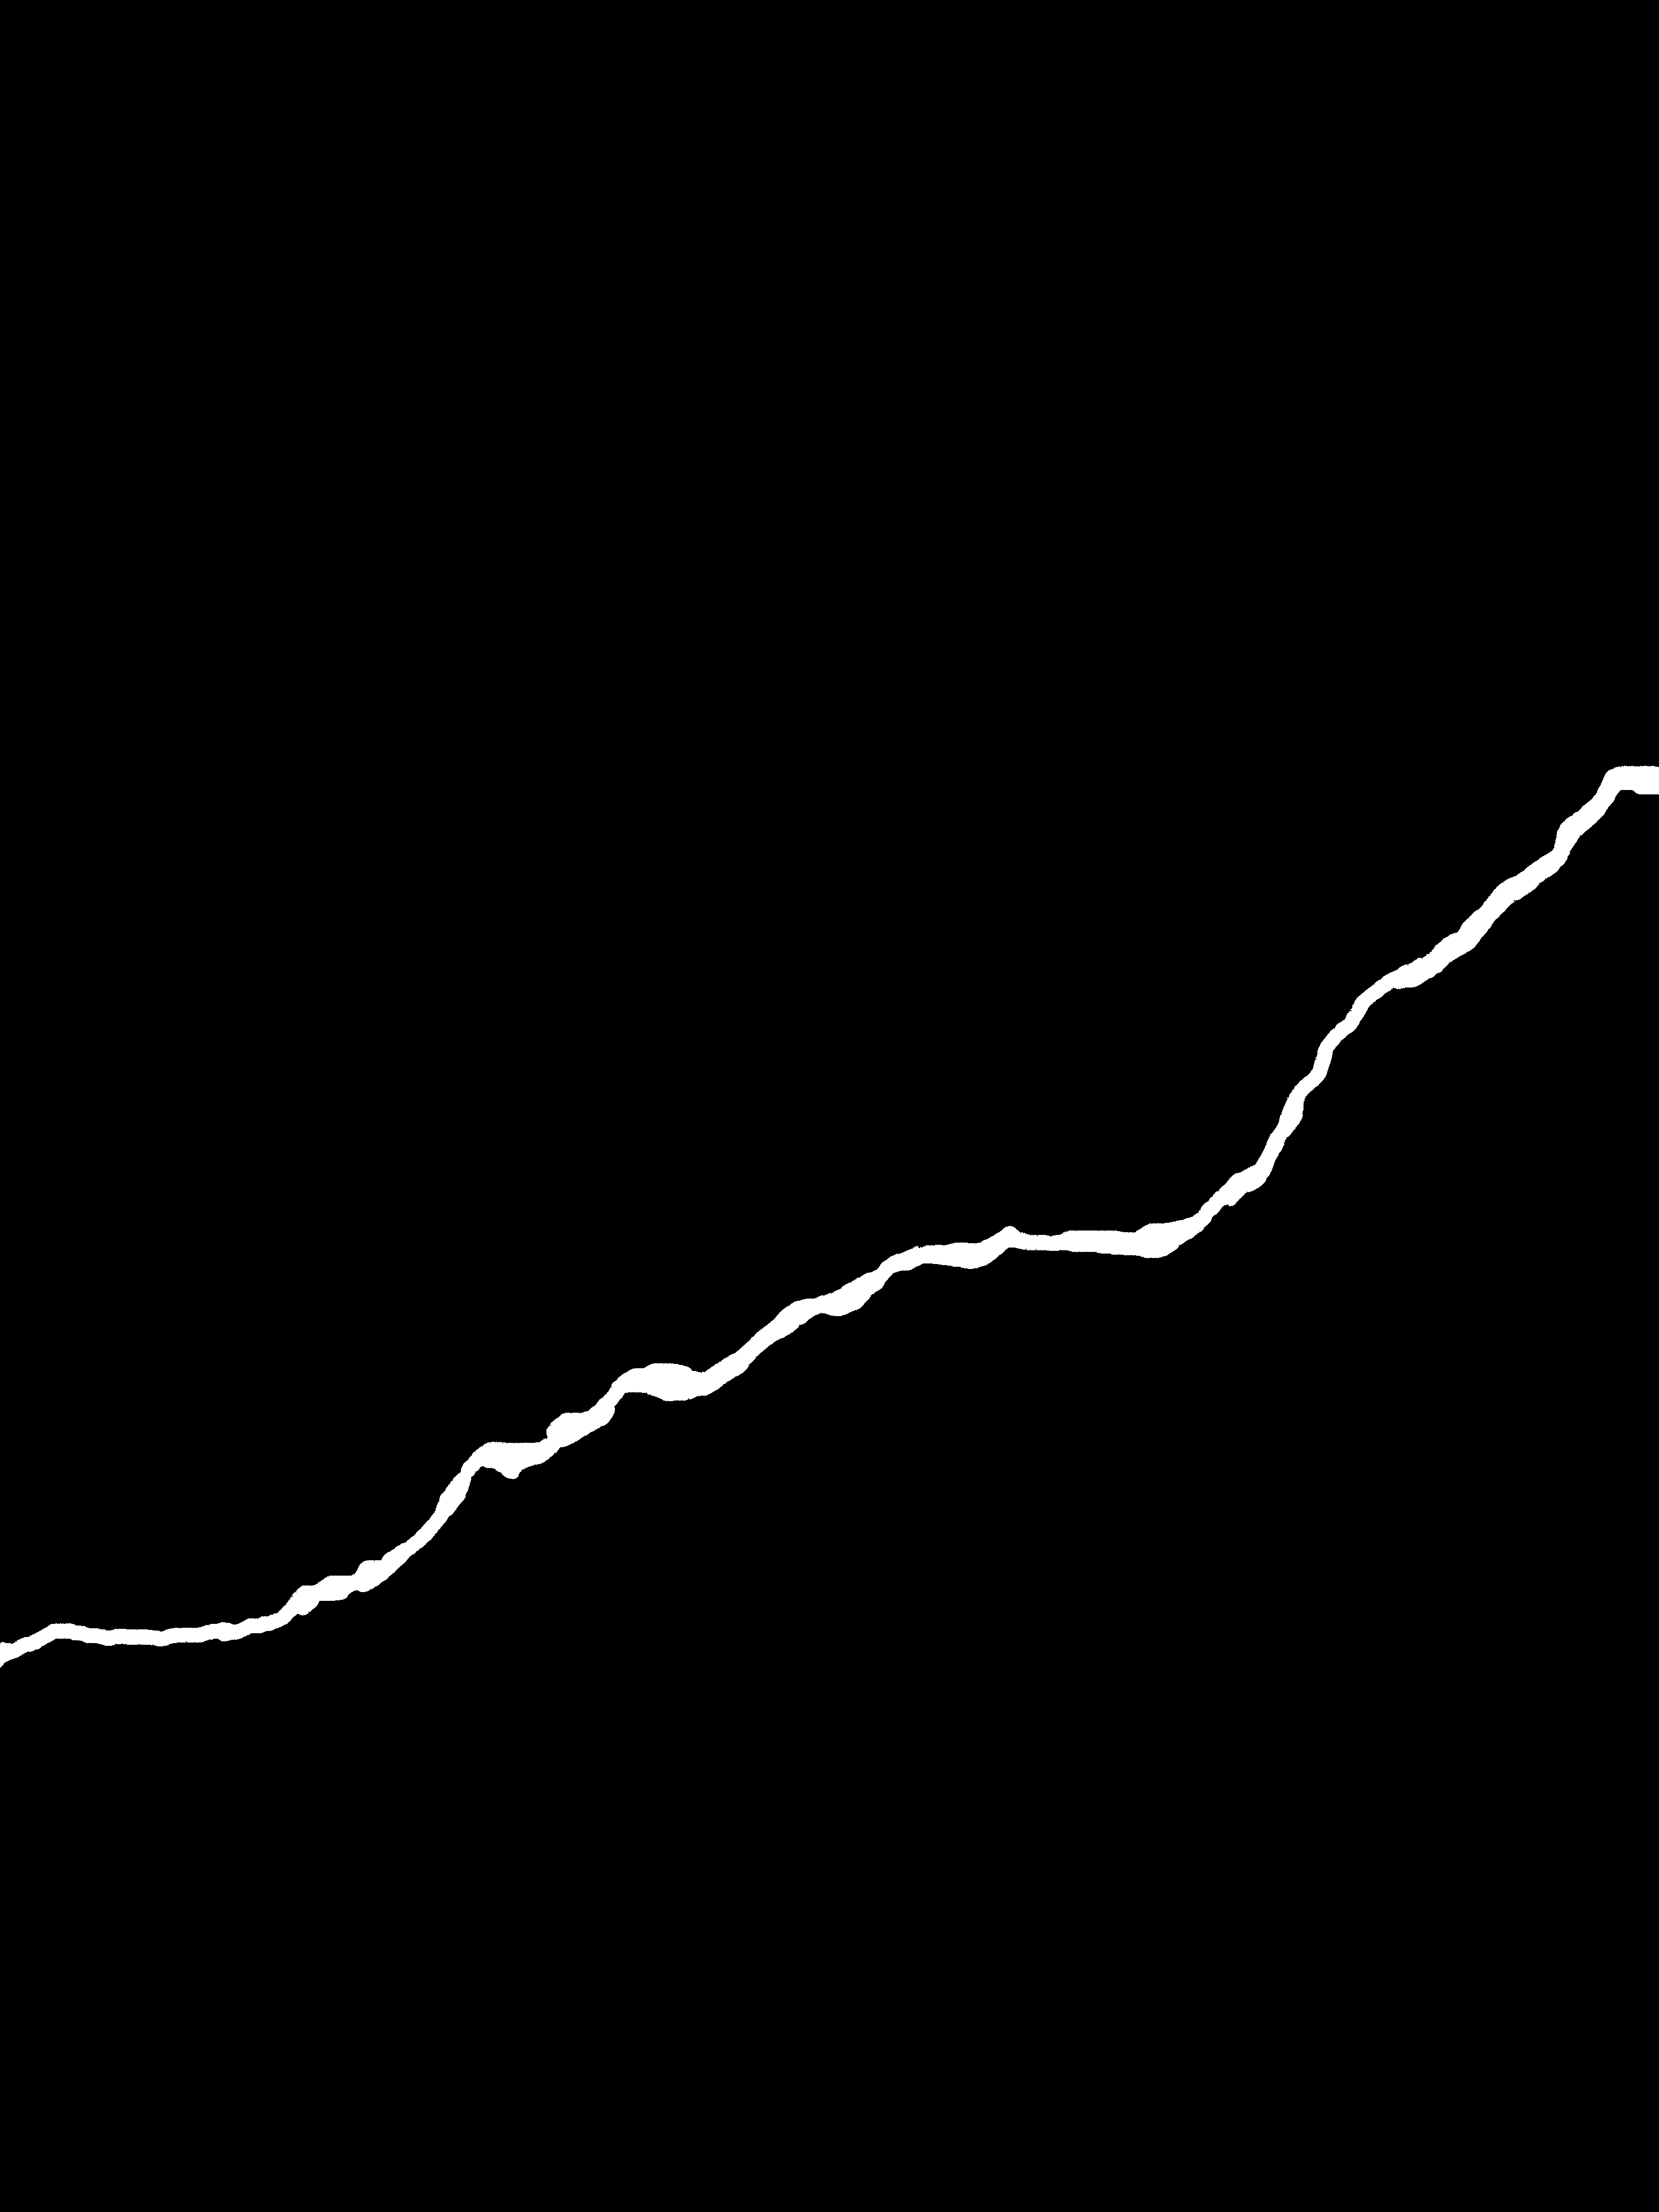Crack: (0, 732, 1659, 1696)
